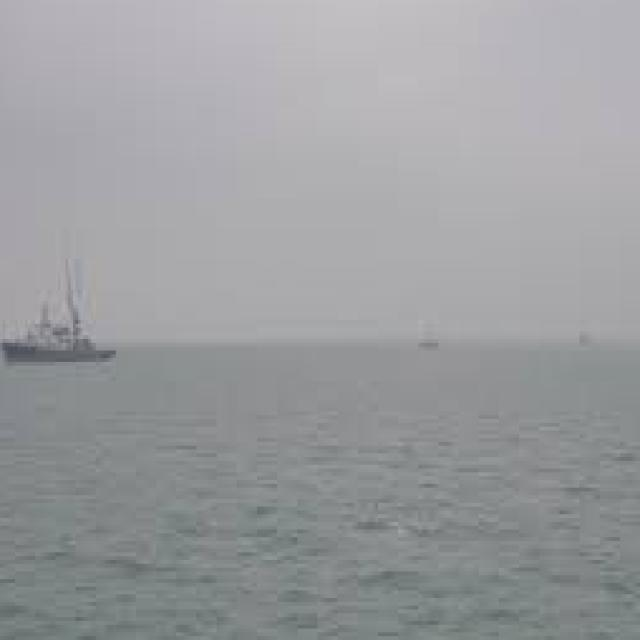cargoship: (0, 297, 119, 362)
